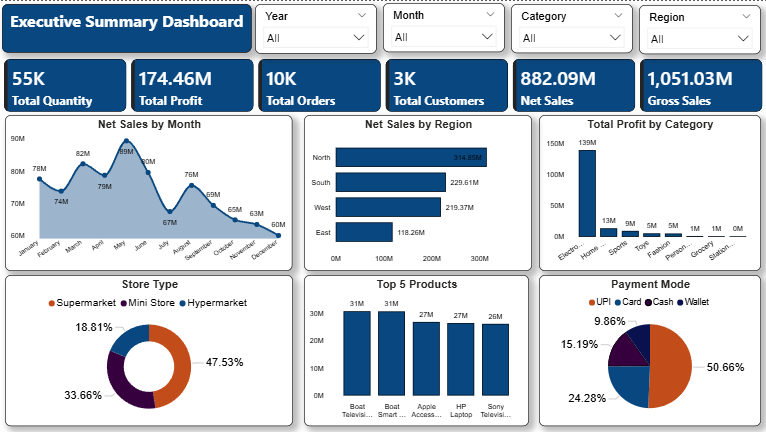

The dashboard page shown, as its layout file describes it:
{"tool":"powerbi","page":{"name":"Page 1","canvas":[1280,720],"ordinal":0},"visuals":[{"type":"lineChart","fields":{"Y":["All Measures.Net Sales"],"Category":["Date Table.Date.Variation.Date Hierarchy.Month"]},"box":[8.3,190,479.4,260],"z":0},{"type":"textbox","box":[2.9,4.3,415.7,81.4],"z":1000},{"type":"cardVisual","fields":{"Data":["All Measures.Total Quantity","All Measures.Total Profit","All Measures.Total Orders","All Measures.Total Customers","All Measures.Net Sales","All Measures.Gross Sales"]},"box":[0.9,91,1279.1,98.5],"z":2000},{"type":"slicer","fields":{"Values":["Date Table.Date.Variation.Date Hierarchy.Year"]},"box":[424.3,4.3,202.9,82.9],"z":3000},{"type":"slicer","fields":{"Values":["Date Table.Date.Variation.Date Hierarchy.Month"]},"box":[637.6,3.8,203.3,81.7],"z":4000},{"type":"slicer","fields":{"Values":["Products.Category"]},"box":[850.9,5.5,203.3,81.7],"z":5000},{"type":"slicer","fields":{"Values":["Customers.Region"]},"box":[1064.2,7.2,203.3,81.7],"z":6000},{"type":"clusteredColumnChart","fields":{"Category":["Products.Category"],"Y":["All Measures.Total Profit"]},"box":[898.8,190,369.5,260],"z":7000},{"type":"clusteredBarChart","fields":{"Y":["All Measures.Net Sales"],"Category":["Customers.Region"]},"box":[506.7,190,380,260],"z":8000},{"type":"donutChart","title":"Store Type","fields":{"Category":["Stores.Store Type"],"Y":["All Measures.Gross Sales"]},"box":[8.3,456.7,480,251.7],"z":9000},{"type":"clusteredColumnChart","title":"Top 5 Products","fields":{"Category":["Products.Product Name"],"Y":["All Measures.Net Sales"]},"box":[506.7,456.7,375,251.7],"z":10000},{"type":"pieChart","title":"Payment Mode","fields":{"Category":["Sales.Payment Mode"],"Y":["All Measures.Net Sales"]},"box":[898.3,456.7,370,251.7],"z":11000}]}

Visuals, with their boxes in screenshot pixels (x1, y1, x2, y2), scaled from the page's 1280x720 canvas onto the 766x432 screenshot:
lineChart - All Measures.Net Sales x Date Table.Date.Variation.Date Hierarchy.Month: select_region(5, 114, 292, 270)
textbox: select_region(2, 3, 251, 51)
cardVisual - All Measures.Total Quantity x All Measures.Total Profit: select_region(1, 55, 765, 114)
slicer - Date Table.Date.Variation.Date Hierarchy.Year: select_region(254, 3, 375, 52)
slicer - Date Table.Date.Variation.Date Hierarchy.Month: select_region(382, 2, 503, 51)
slicer - Products.Category: select_region(509, 3, 631, 52)
slicer - Customers.Region: select_region(637, 4, 759, 53)
clusteredColumnChart - Products.Category x All Measures.Total Profit: select_region(538, 114, 759, 270)
clusteredBarChart - All Measures.Net Sales x Customers.Region: select_region(303, 114, 531, 270)
"Store Type" donutChart: select_region(5, 274, 292, 425)
"Top 5 Products" clusteredColumnChart: select_region(303, 274, 528, 425)
"Payment Mode" pieChart: select_region(538, 274, 759, 425)
